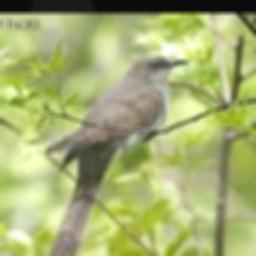Cuckoo: (44, 56, 189, 256)
